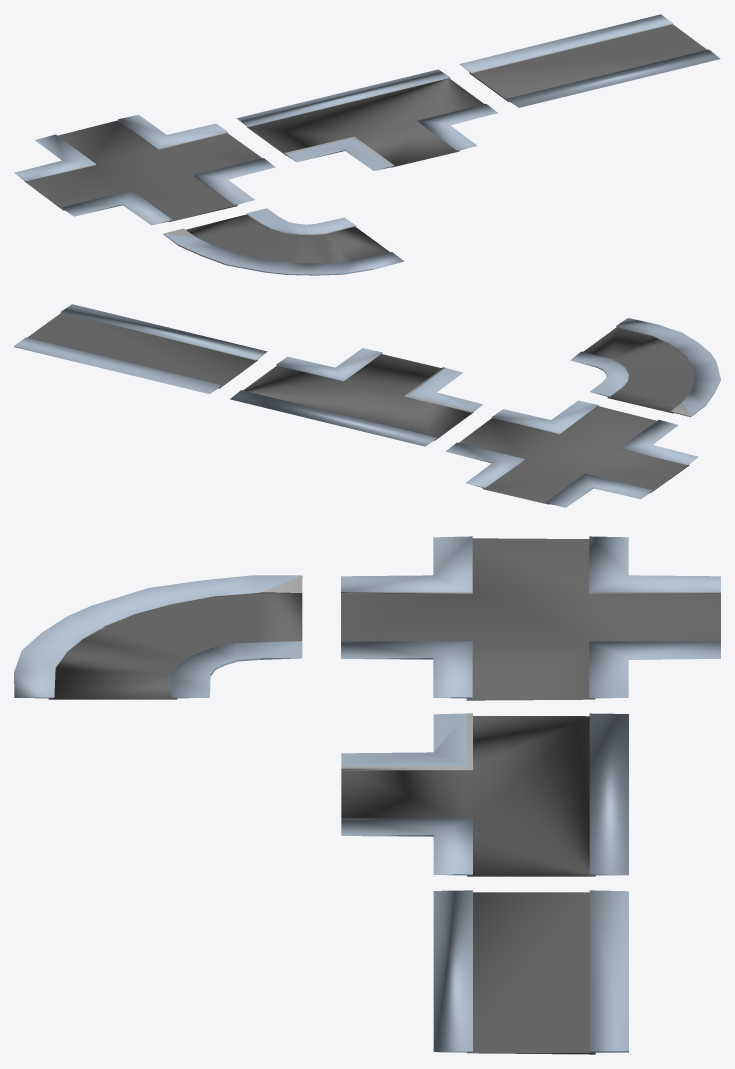
The model's file is modular_roads_sketch.fbx.
3 renders of one model, top to bottom at view 1: azimuth 30°, elevation 25°; view 2: azimuth 150°, elevation 25°; view 3: azimuth 270°, elevation 25°, orthographic. The views are drawn at different scales.
Parts seen in each view (by area): view 1: 4-way road, 3-way T road, 2-way road, Curve road; view 2: 4-way road, 3-way T road, 2-way road, Curve road; view 3: 4-way road, 3-way T road, 2-way road, Curve road.
Part boxes in pixels (box(x1,y1,x2,y2)): 4-way road: box(14, 114, 275, 225); 3-way T road: box(237, 69, 497, 170); 2-way road: box(459, 14, 720, 107); Curve road: box(163, 208, 404, 275); 4-way road: box(445, 400, 698, 507); 3-way T road: box(230, 348, 482, 446); 2-way road: box(14, 304, 267, 394); Curve road: box(570, 318, 720, 416); 4-way road: box(341, 536, 720, 700); 3-way T road: box(341, 713, 628, 876); 2-way road: box(433, 890, 628, 1054); Curve road: box(14, 575, 302, 699).
Size of the model in its own units: 631 by 2.13 by 366.
